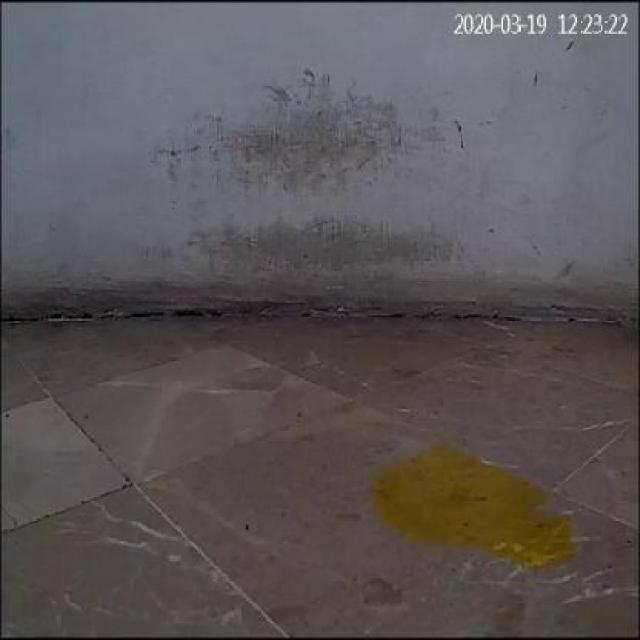spill: (358, 437, 574, 571)
